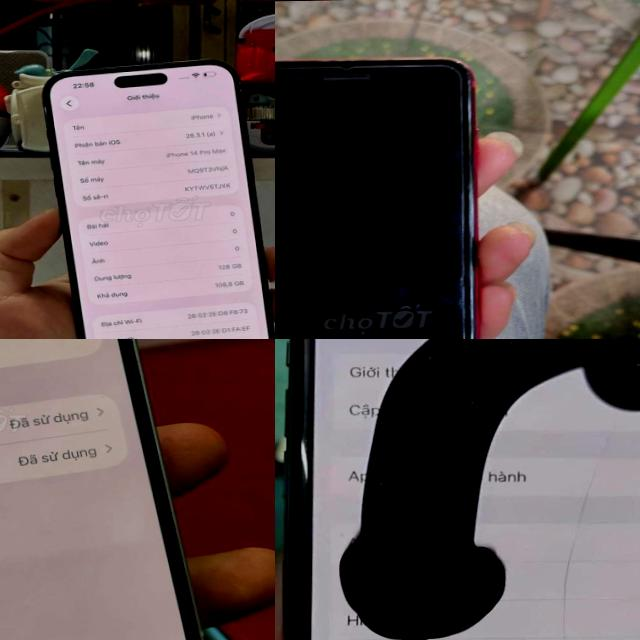gen_11: (275, 339, 640, 640)
gen_12_13: (0, 339, 221, 640)
gen_14: (35, 62, 275, 339)
gen_7_8: (275, 52, 486, 339)
